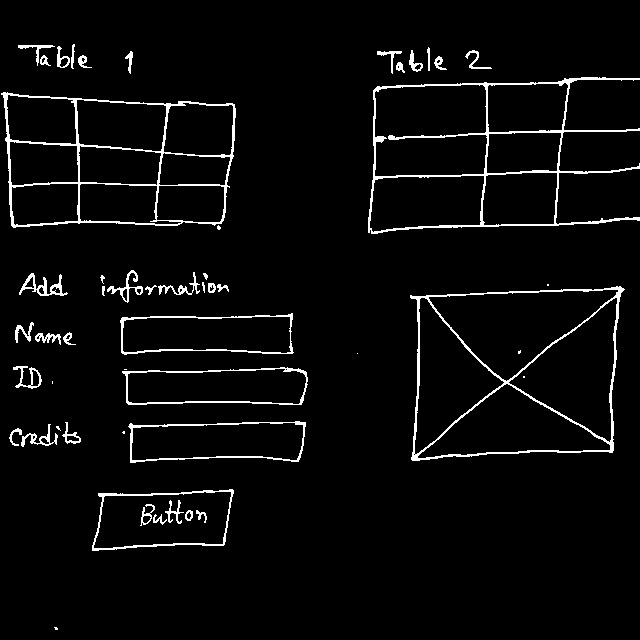button: (86, 492, 234, 549)
image: (404, 286, 624, 462)
input: (122, 367, 307, 410), (123, 419, 308, 462), (119, 312, 296, 355)
table: (365, 72, 640, 235), (2, 87, 238, 234)
